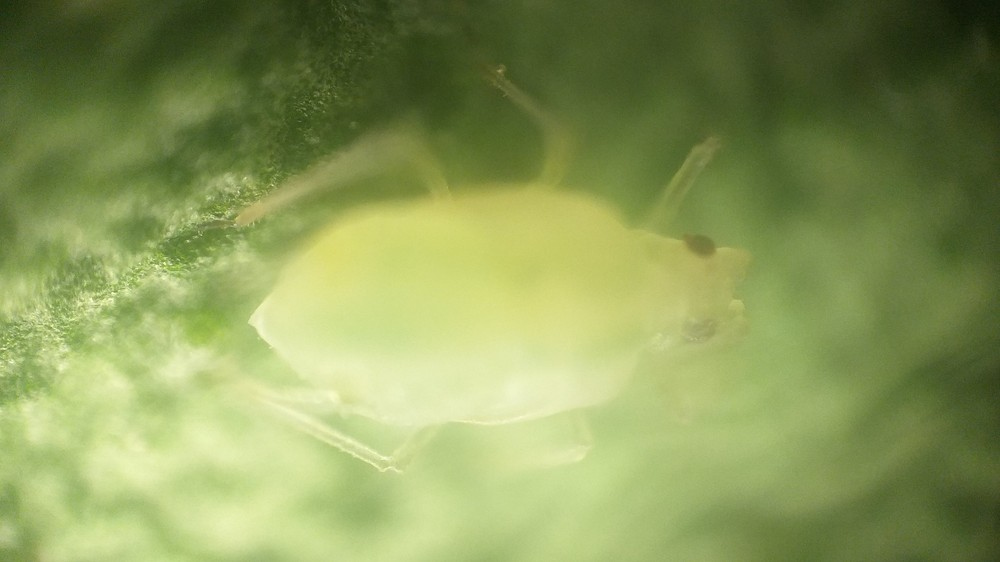Pulgon: (230, 76, 783, 525)
